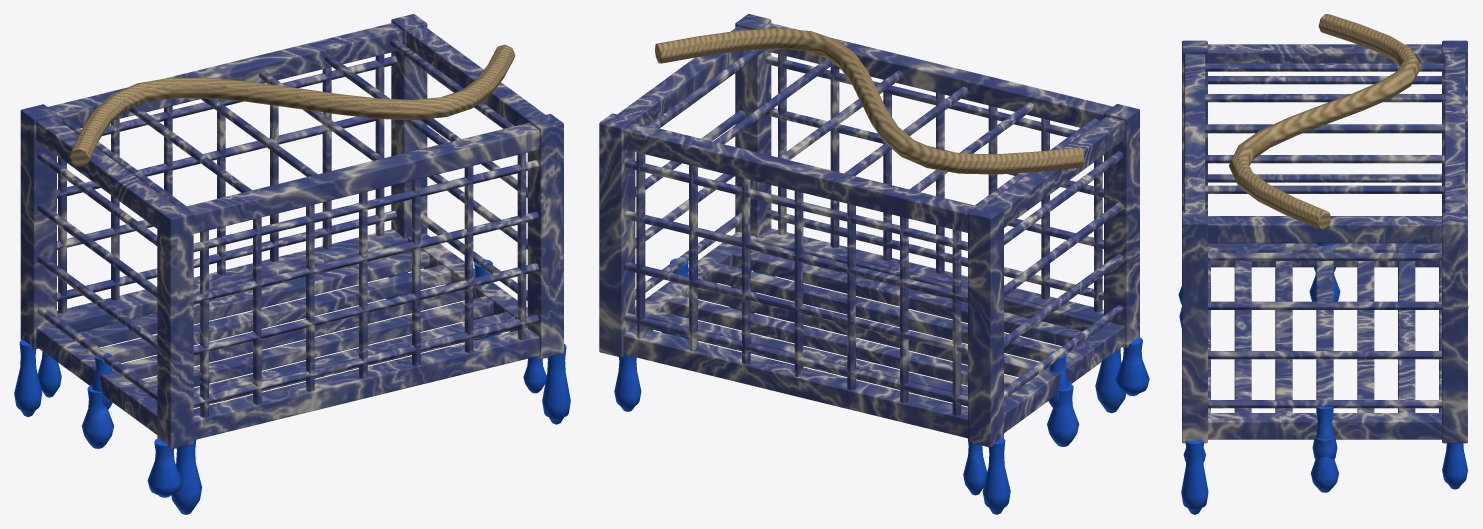
The model's file is lobster_trap.glb.
3 renders of one model, left to right at view 1: azimuth 30°, elevation 25°; view 2: azimuth 150°, elevation 25°; view 3: azimuth 270°, elevation 25°, orthographic. The views are drawn at different scales.
Parts seen in each view (by area): view 1: lobster_trap; view 2: lobster_trap; view 3: lobster_trap.
Boxes of the visible parts, x1,y1,x2,y2 form: lobster_trap: [14, 14, 570, 514]; lobster_trap: [599, 14, 1149, 514]; lobster_trap: [1178, 14, 1468, 514].
Size of the model in its own units: 0.9875 by 0.72 by 0.5936.
Materials: 1 (1 with a texture image).
